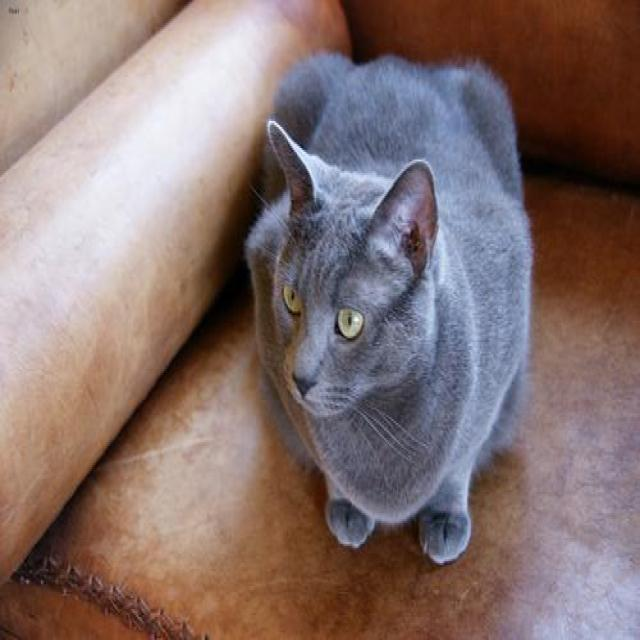cat: (244, 54, 532, 565)
